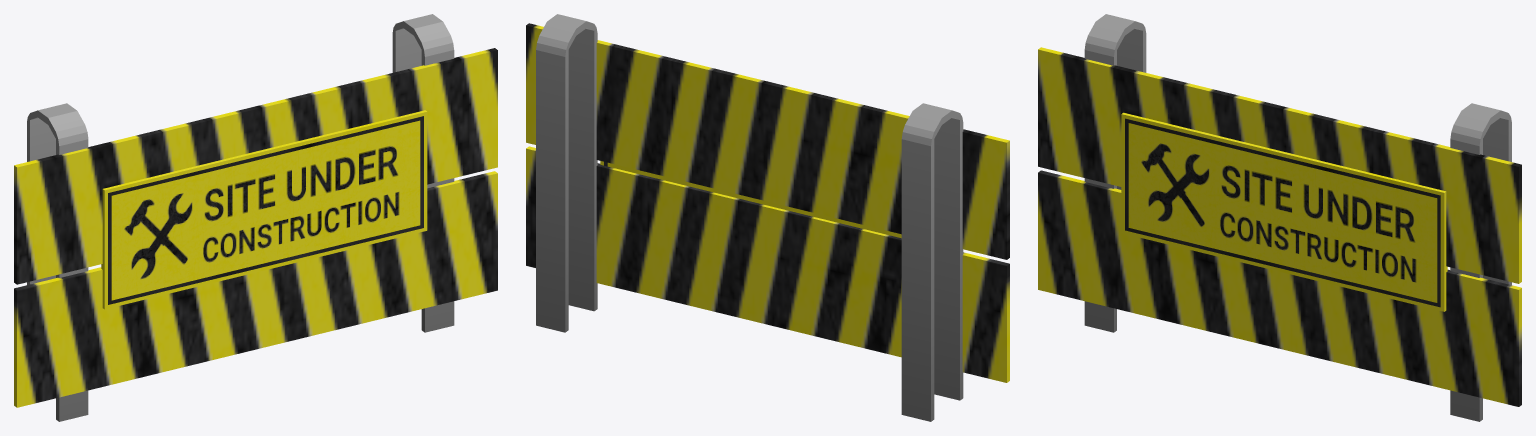
File: ConstructionWarning.fbx
3 renders of one model, left to right at view 1: azimuth 30°, elevation 25°; view 2: azimuth 150°, elevation 25°; view 3: azimuth 330°, elevation 25°, orthographic.
Visible parts, largest first — view 1: ConstructionWarning_LOD0; view 2: ConstructionWarning_LOD0; view 3: ConstructionWarning_LOD0.
Part boxes in pixels (<box>): ConstructionWarning_LOD0: <box>14,14,497,421</box>; ConstructionWarning_LOD0: <box>526,14,1009,421</box>; ConstructionWarning_LOD0: <box>1038,14,1521,421</box>.
Size of what is drawn, in the model's own units: 499 by 294 by 65.81.
